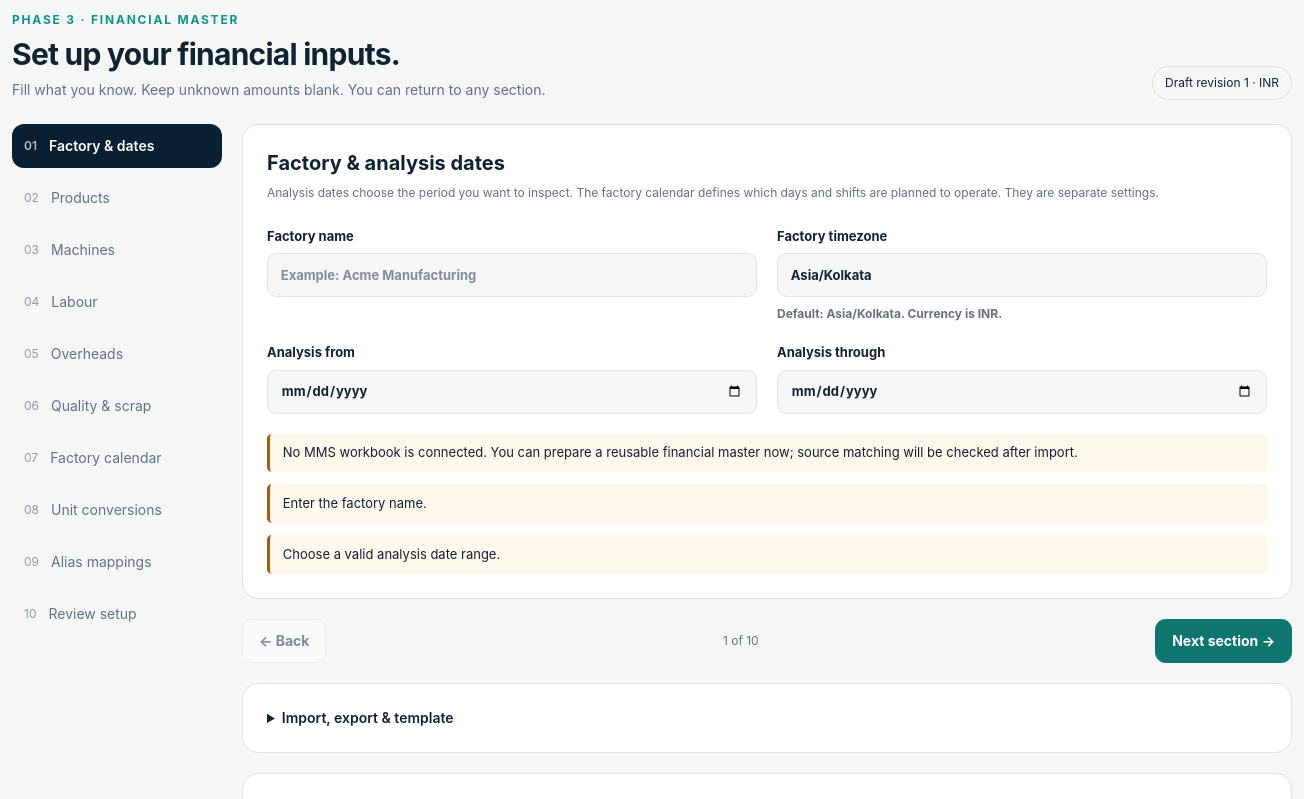
Test: guided financial setup › retains native calendar input and seeds new entry effective dates
The image size is (1304, 799).
Type "2026-01-01" into the date field labelled "Analysis from" at coordinates (512, 392), box [267, 370, 757, 414]
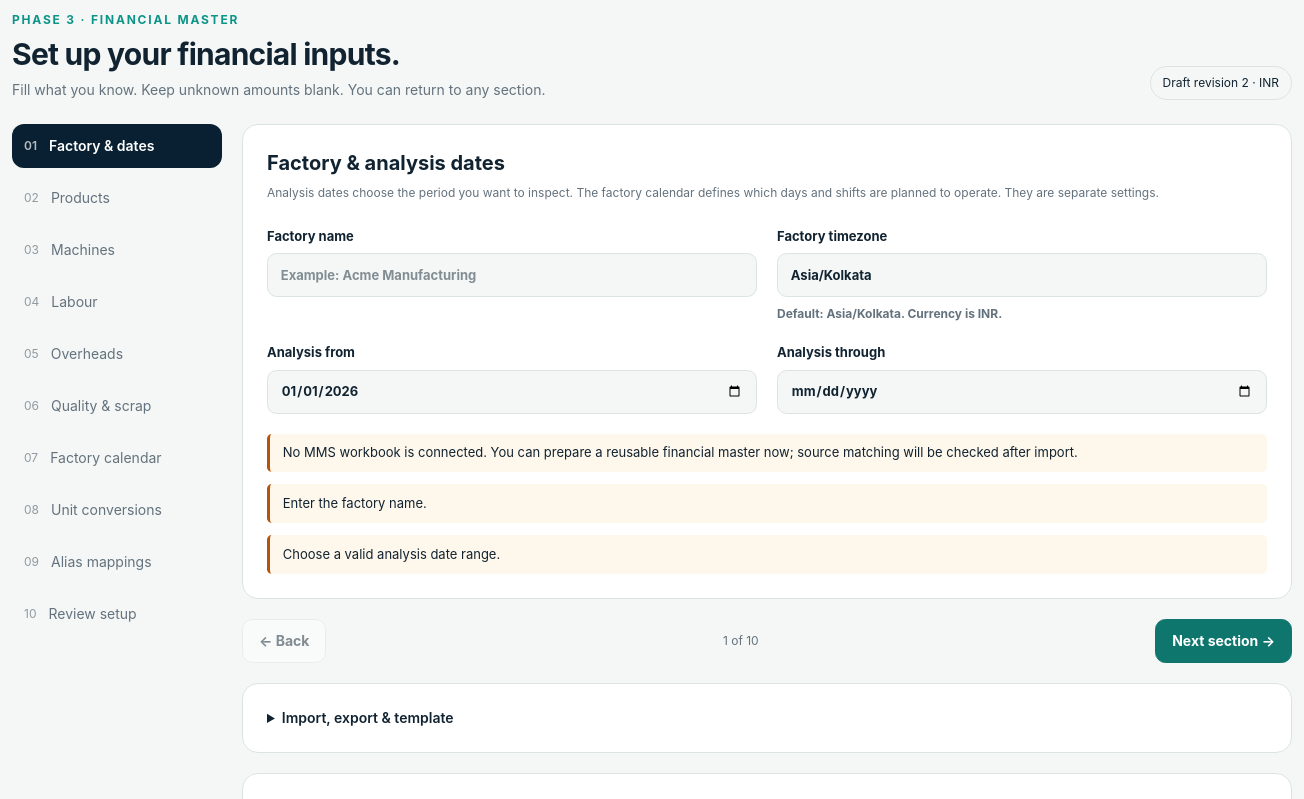
Type "2026-01-31" into the date field labelled "Analysis through" at coordinates (1022, 392), box [777, 370, 1267, 414]
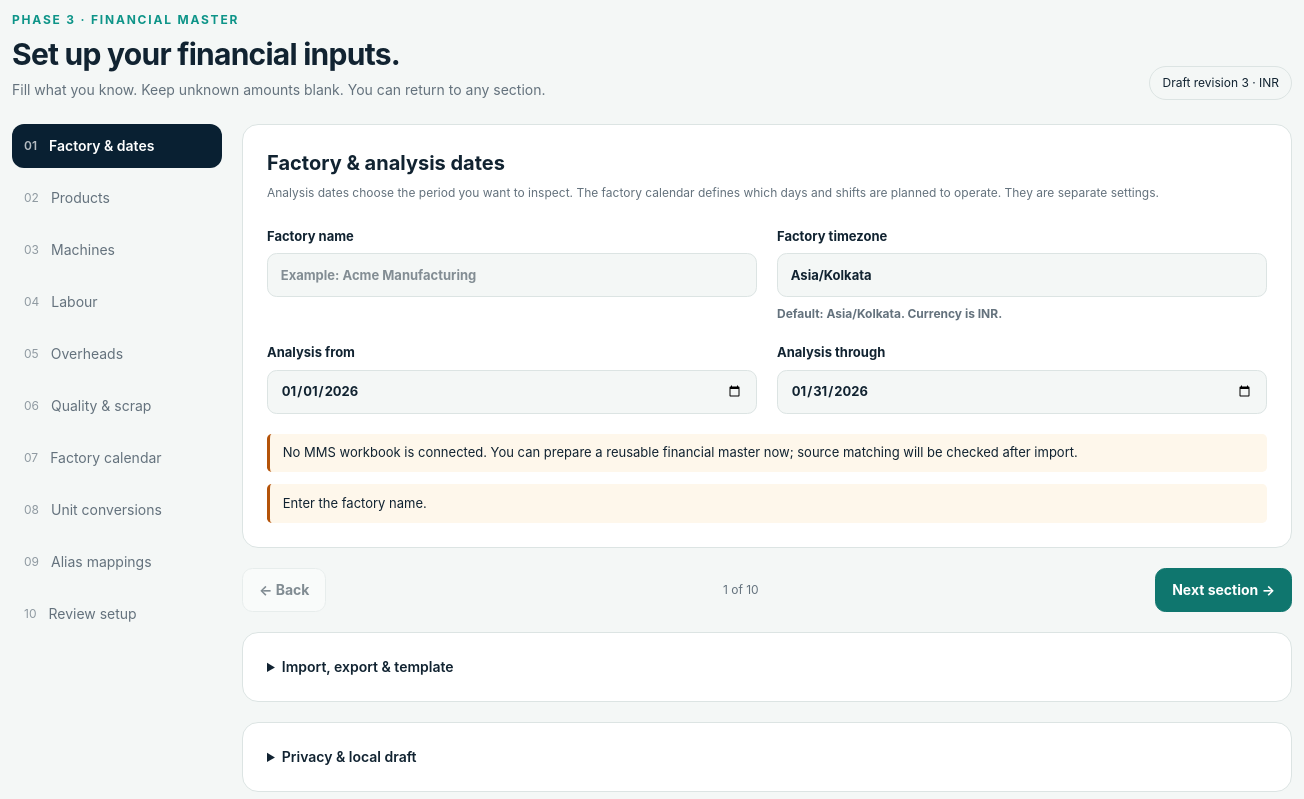
Click the button "02 Products" at coordinates (117, 198), box [12, 176, 222, 220]
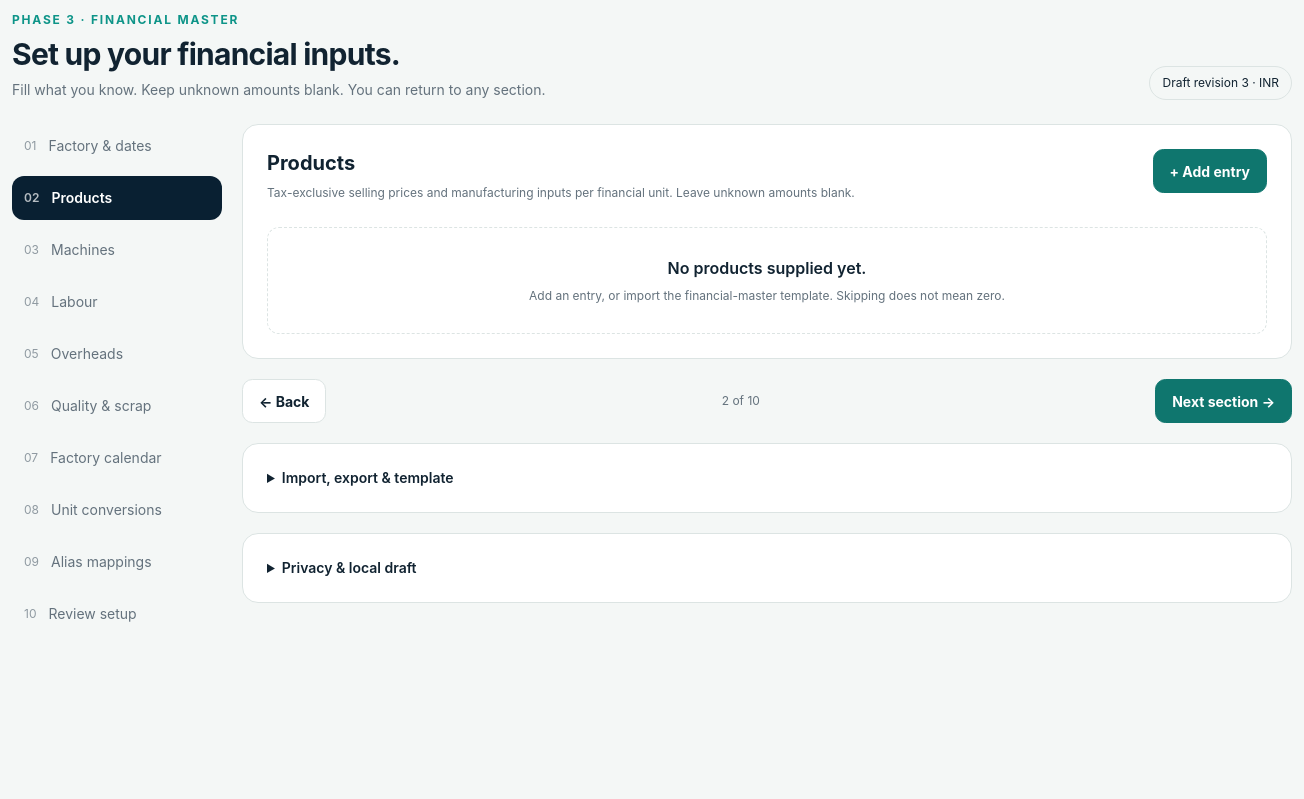
Click the button "+ Add entry" at coordinates (1210, 171), box [1152, 149, 1267, 193]
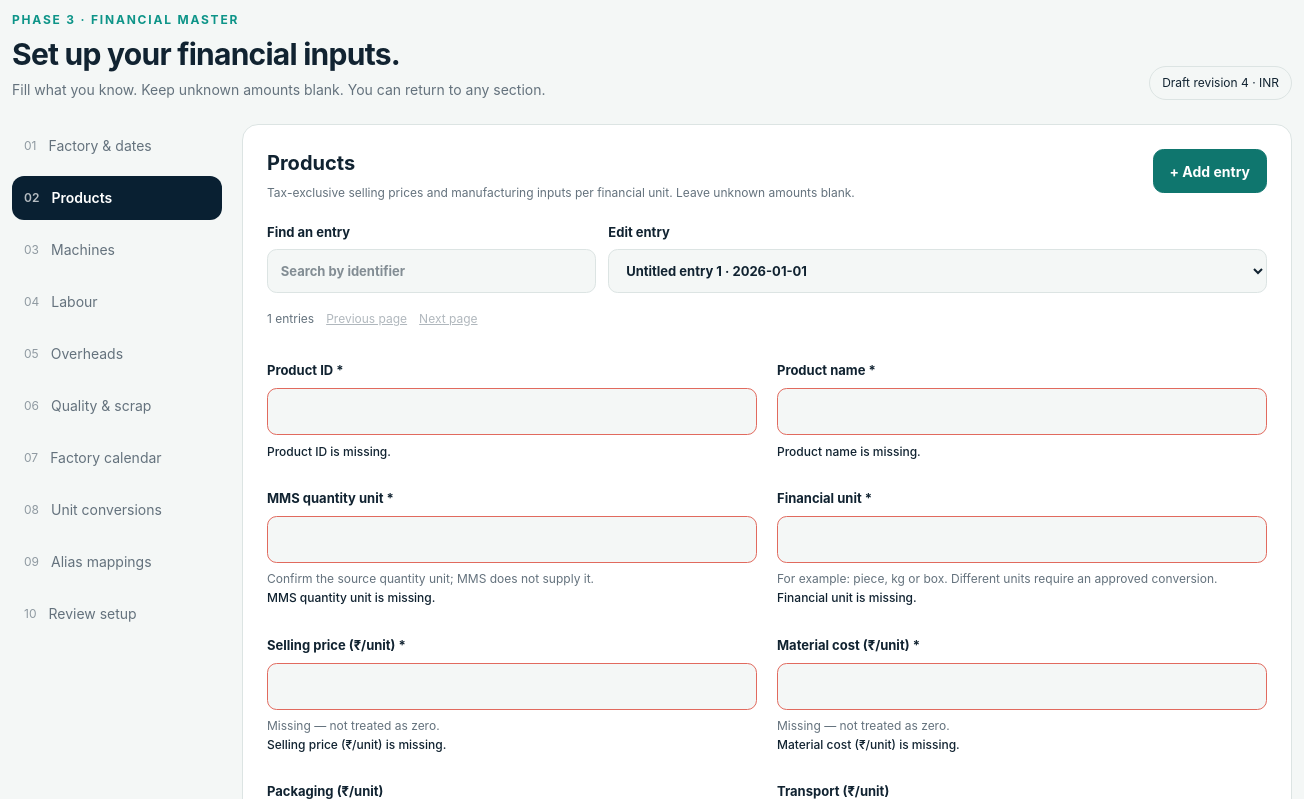
Click the button "01 Factory & dates" at coordinates (117, 146), box [12, 124, 222, 168]
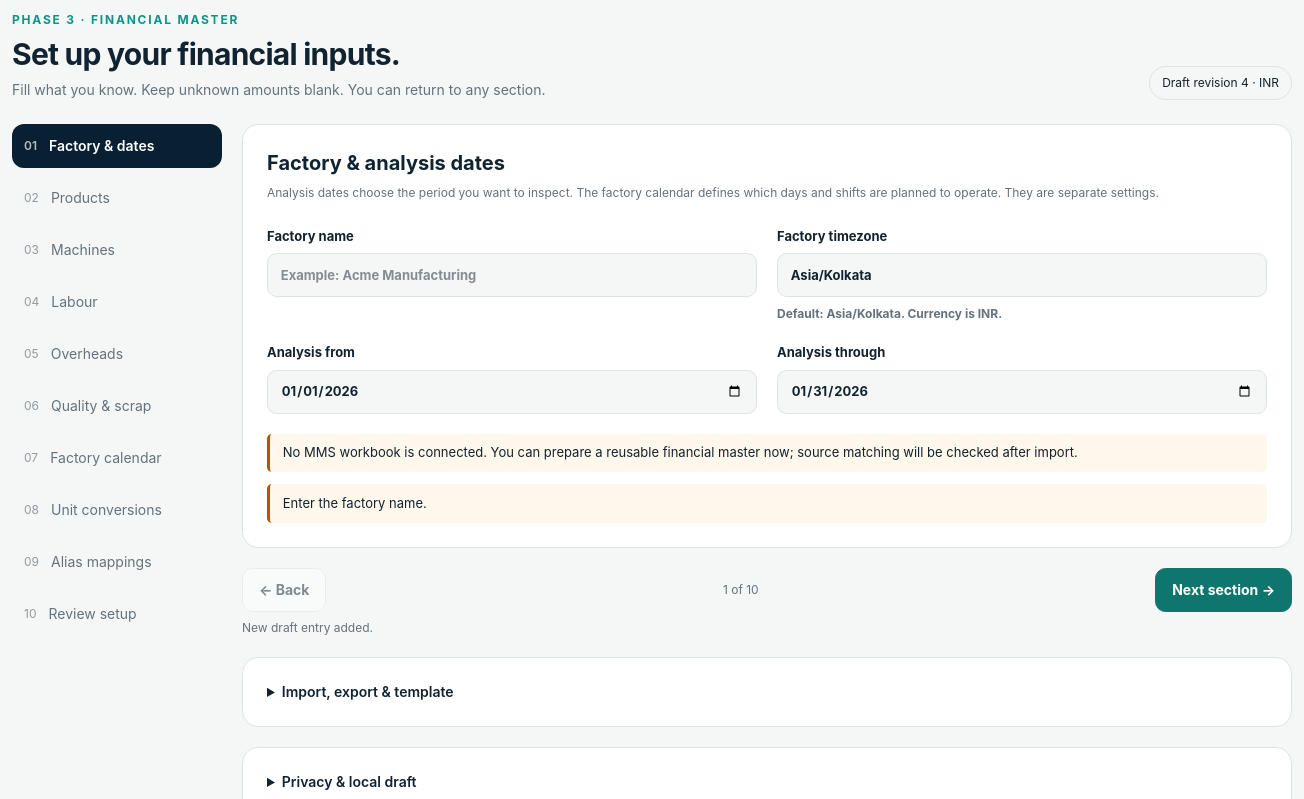
Now the date field labelled "Analysis through" holds "2026-01-31", box [777, 370, 1267, 414]
